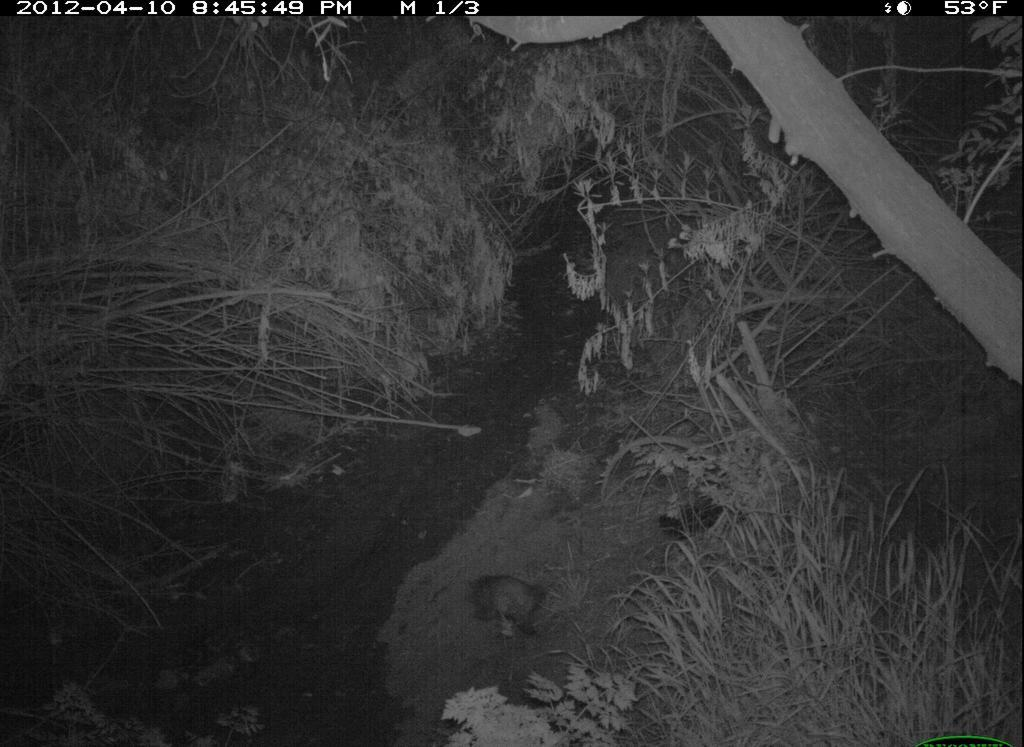opossum: (438, 546, 560, 660)
